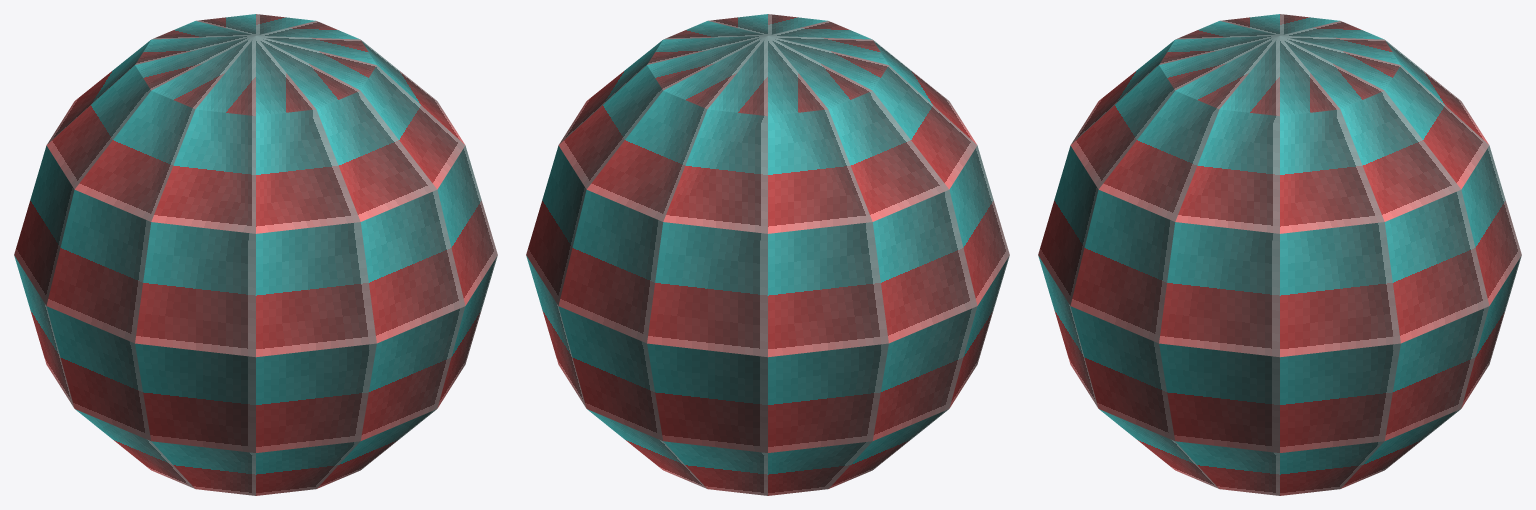
File: Gizmo.dae
The picture shows the model from 3 angles, left to right: view 1: azimuth 30°, elevation 25°; view 2: azimuth 150°, elevation 25°; view 3: azimuth 270°, elevation 25°; orthographic projection.
Parts seen in each view (by area): view 1: Sphere; view 2: Sphere; view 3: Sphere.
Part boxes in pixels (bbox=[...]): Sphere: bbox=[14, 14, 497, 495]; Sphere: bbox=[526, 14, 1009, 495]; Sphere: bbox=[1038, 14, 1521, 495].
Size of the model in its own units: 0.5 by 0.5 by 0.5.
Materials: 1 (1 with a texture image).
